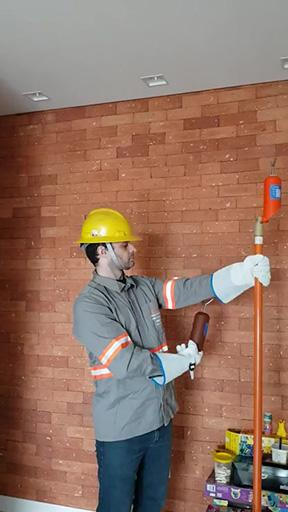Detector_Tensao_Contato: (189, 294, 214, 356), (263, 157, 281, 223)
Vara_Manobra: (250, 217, 266, 512)
